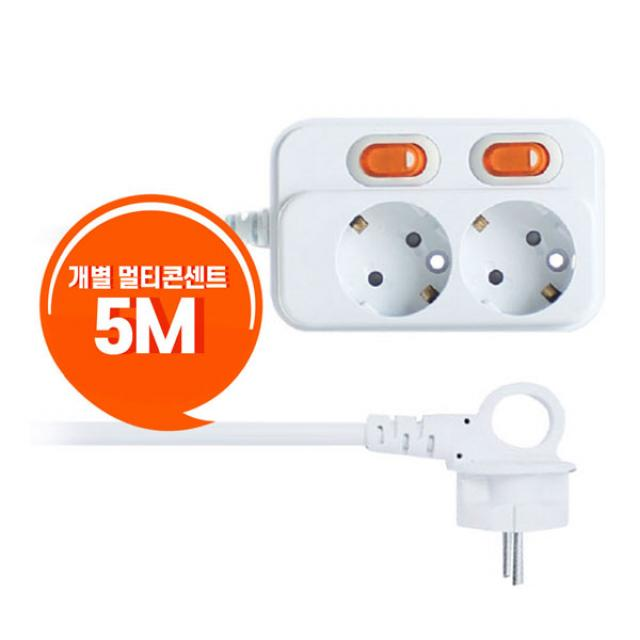typeb: (262, 104, 626, 340)
